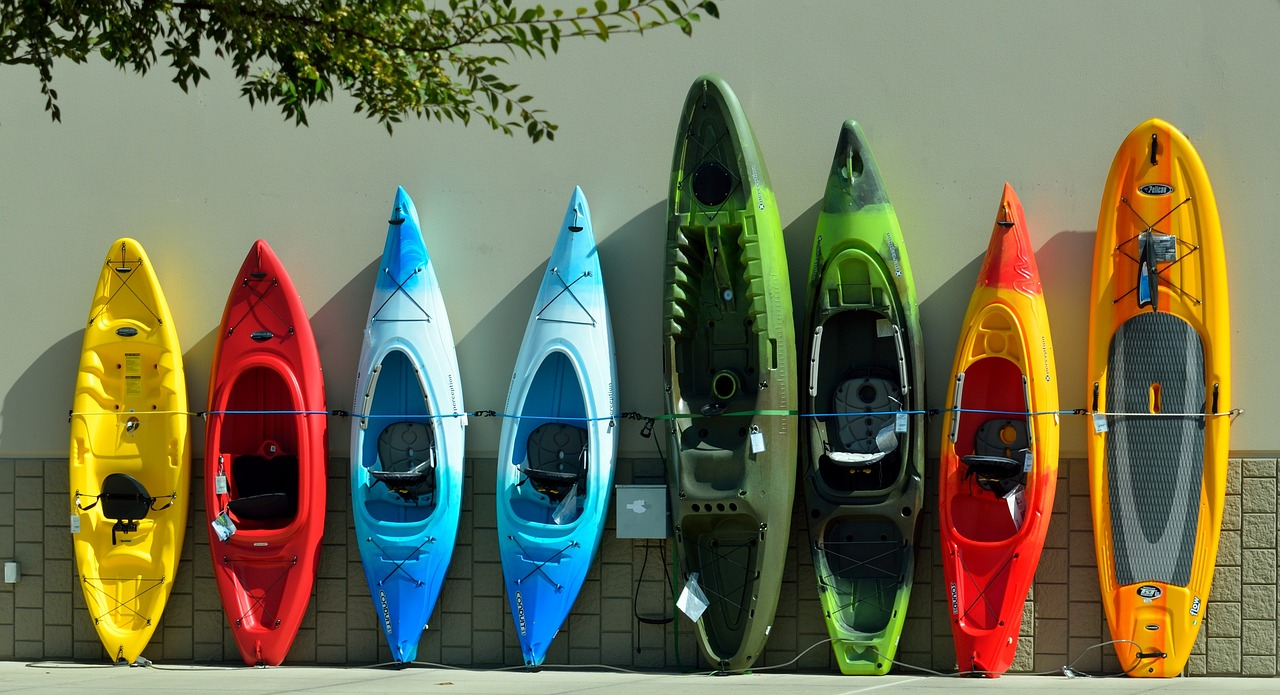kayak: (659, 61, 795, 689), (798, 99, 931, 679), (928, 172, 1067, 695), (343, 189, 471, 678), (493, 185, 621, 674), (63, 233, 197, 671), (201, 231, 328, 677)
